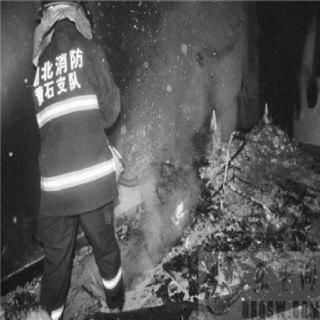other: (19, 39, 100, 130)
